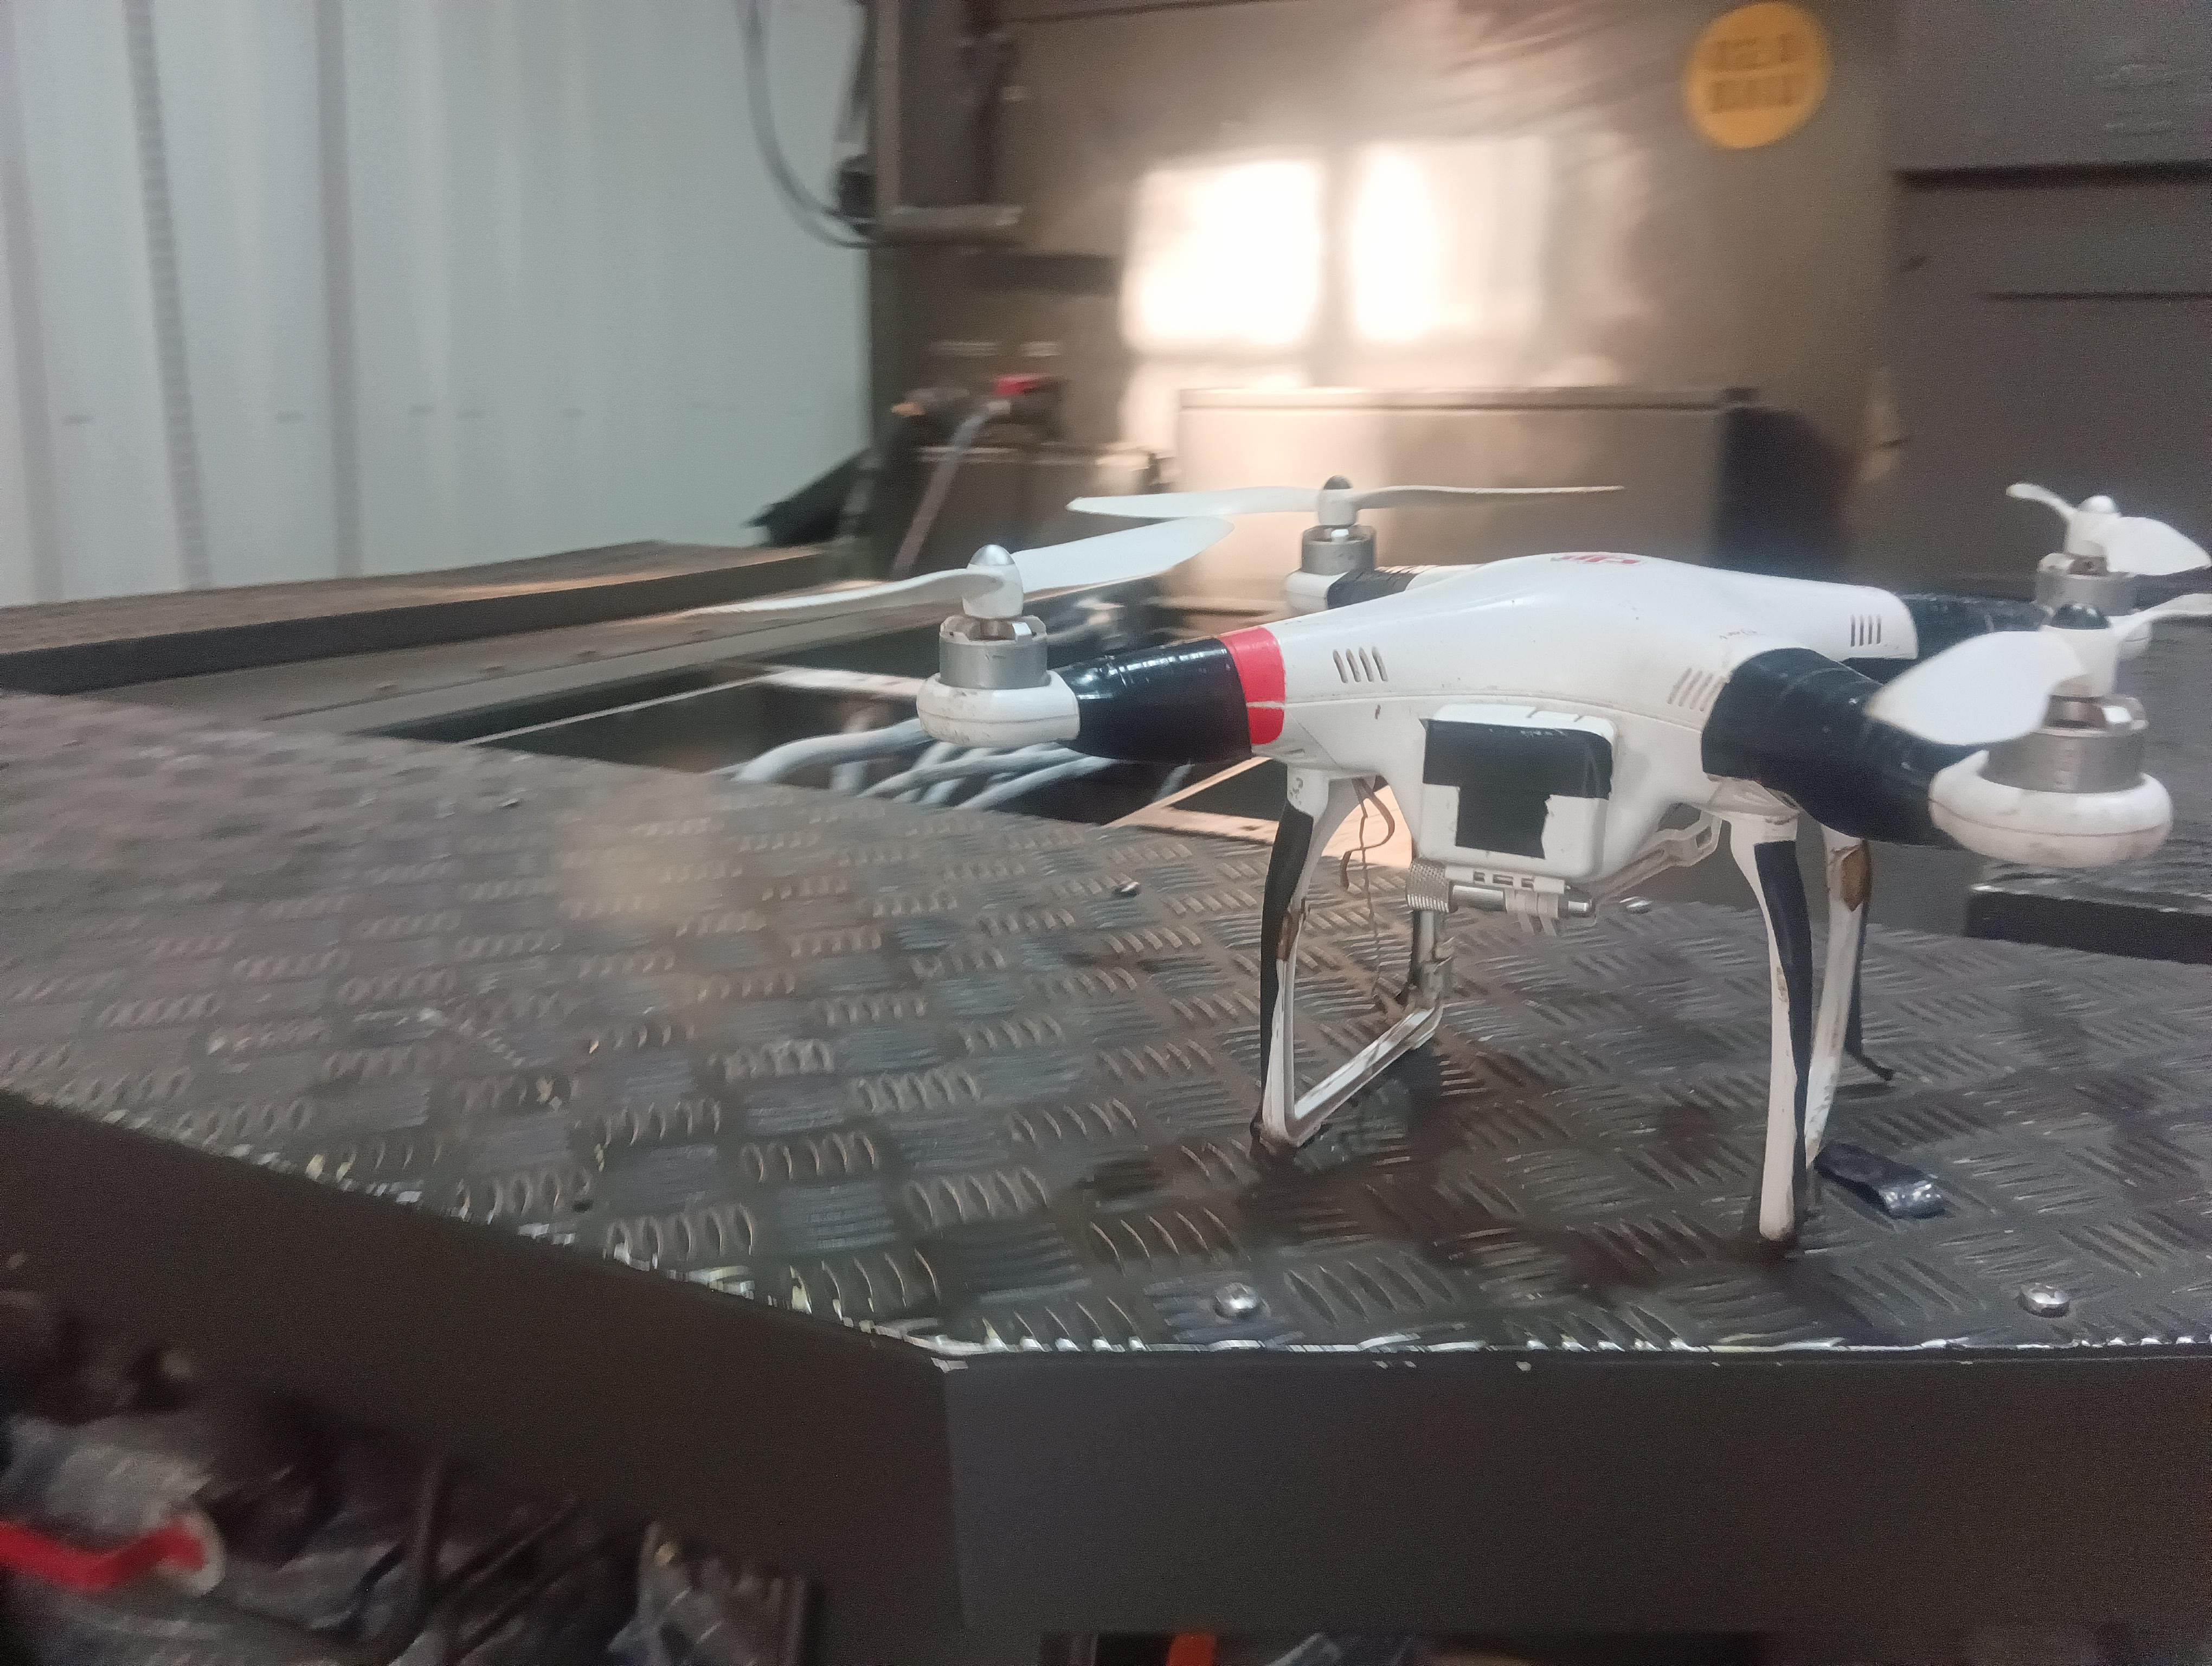drone: (684, 424, 2212, 1251)
